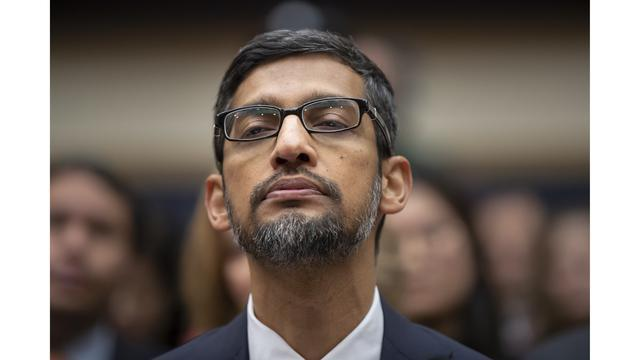Sober: (231, 73, 375, 224)
